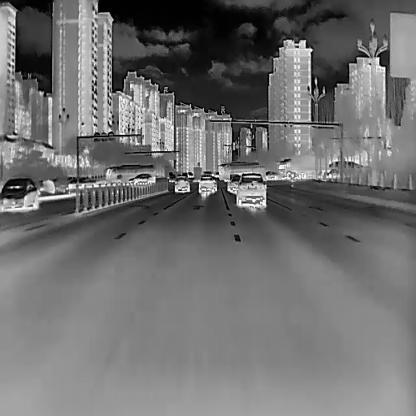car: (0, 175, 40, 209), (216, 160, 266, 185), (233, 172, 267, 208), (102, 163, 155, 186), (277, 154, 316, 180), (127, 172, 153, 186), (172, 174, 190, 192), (198, 173, 215, 192), (251, 164, 265, 183), (229, 174, 240, 195), (266, 170, 278, 180)
